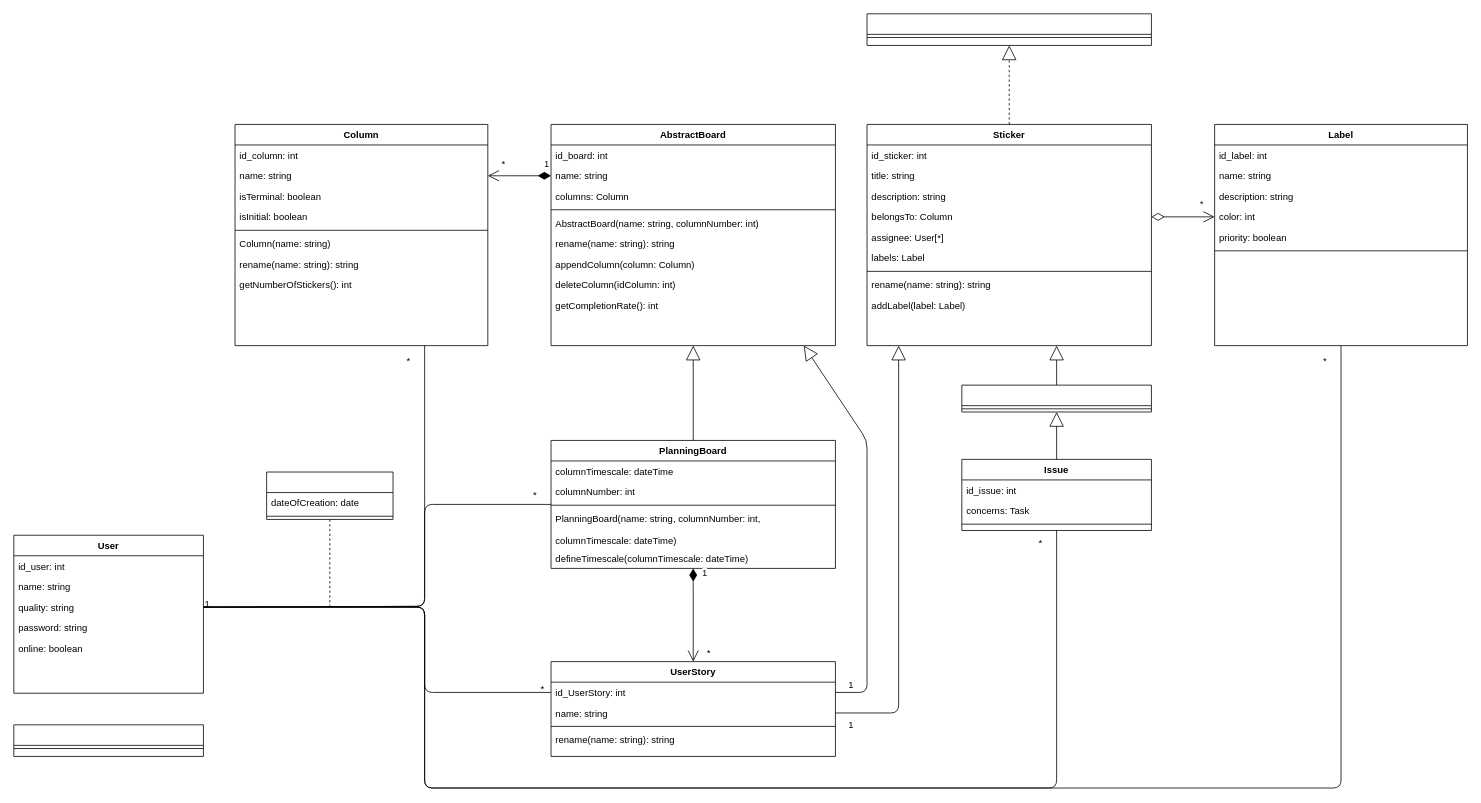
Some shapes in this 1481 by 803 pixel diagram are drawn without their labels. Each missing label, with the box of its shape:
Creates: (266, 471, 393, 519)
Movable: (866, 13, 1151, 45)
Role: (13, 724, 203, 756)
Task: (961, 384, 1151, 412)
